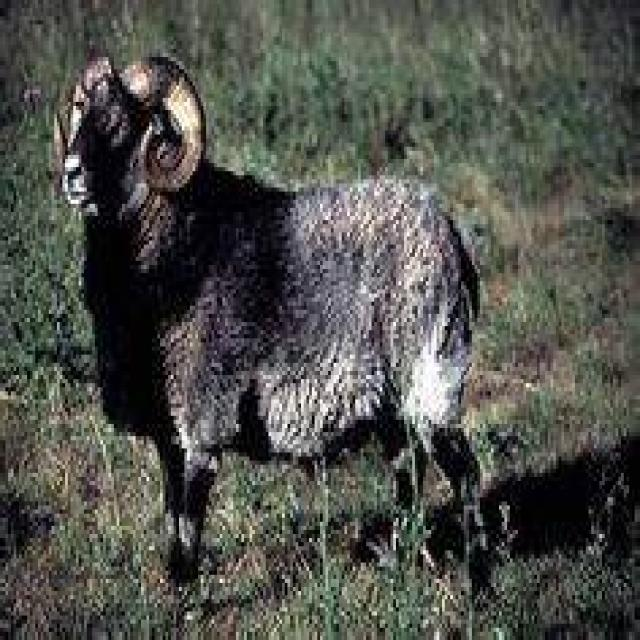animal: (49, 45, 491, 591)
